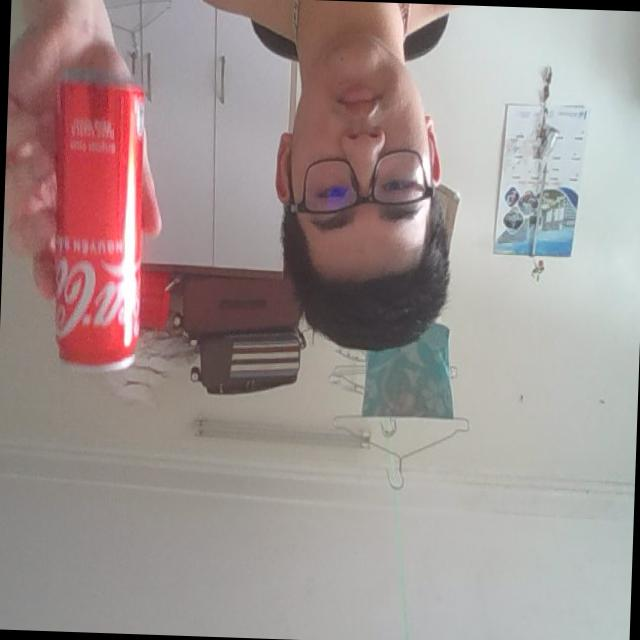Coca Cola: (45, 68, 148, 377)
